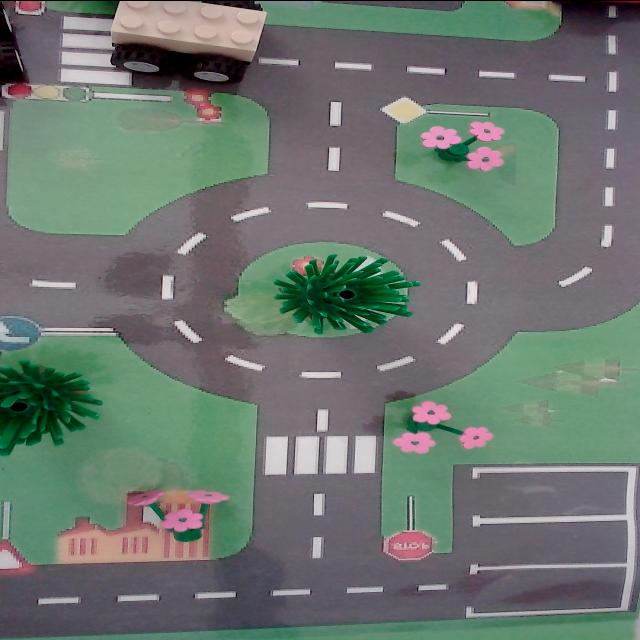Car: (98, 0, 290, 86)
Flower: (118, 470, 240, 551), (386, 390, 514, 467), (407, 109, 516, 175)
Tree: (261, 231, 439, 348), (0, 359, 108, 463)
